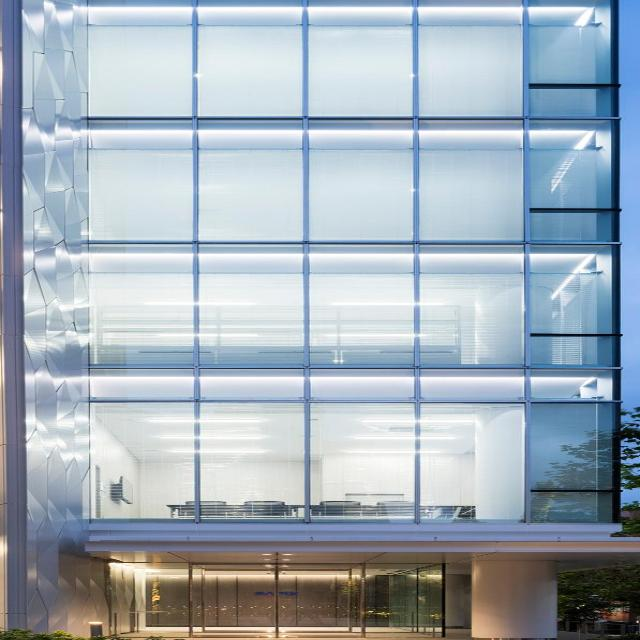door: (186, 563, 366, 637)
windows: (86, 1, 619, 522), (106, 561, 186, 638), (369, 562, 449, 638)
